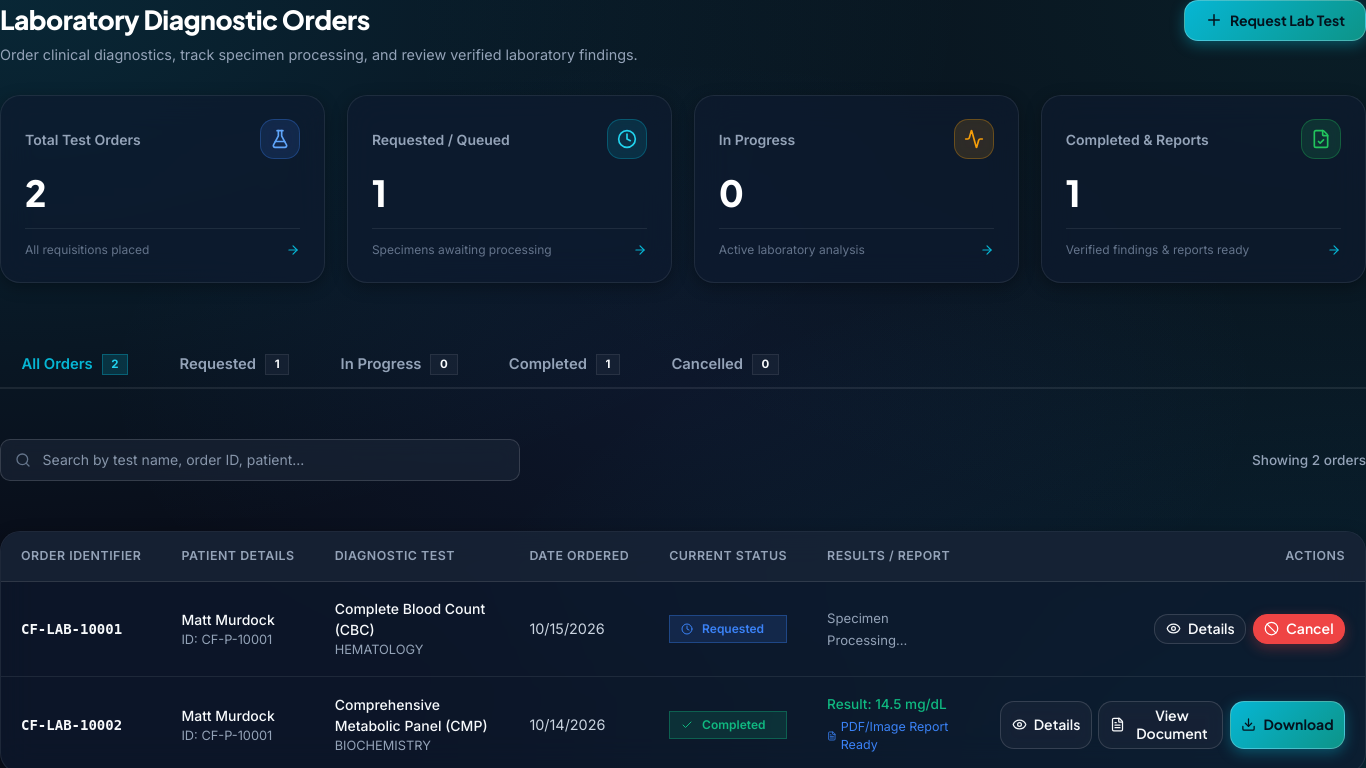
Test: CareFlow HMS — Lab Tests Feature Tests › 2. Doctor Dashboard — Lab Tests Page › renders cancellation button for eligible orders and opens cancellation modal
Expected: the text "CF-LAB-10001" is shown, x1=21 y1=621 x2=122 y2=637
Click the button titled "Request Test Cancellation".
click(1299, 629)  # box x1=1252 y1=614 x2=1345 y2=644
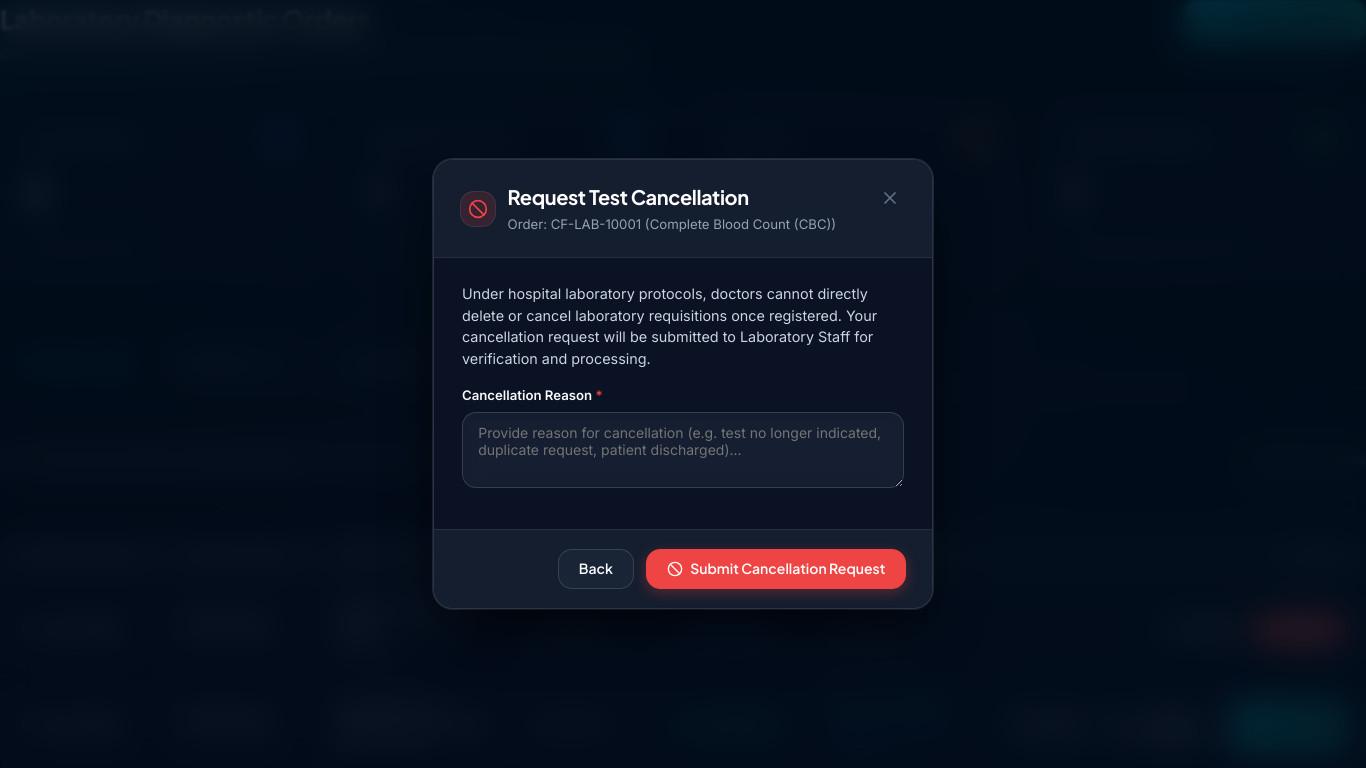
Expected: the heading "Request Test Cancellation" is shown, x1=508 y1=184 x2=749 y2=209
Expected: the text "Cancellation Reason *" is shown, x1=462 y1=387 x2=603 y2=403
